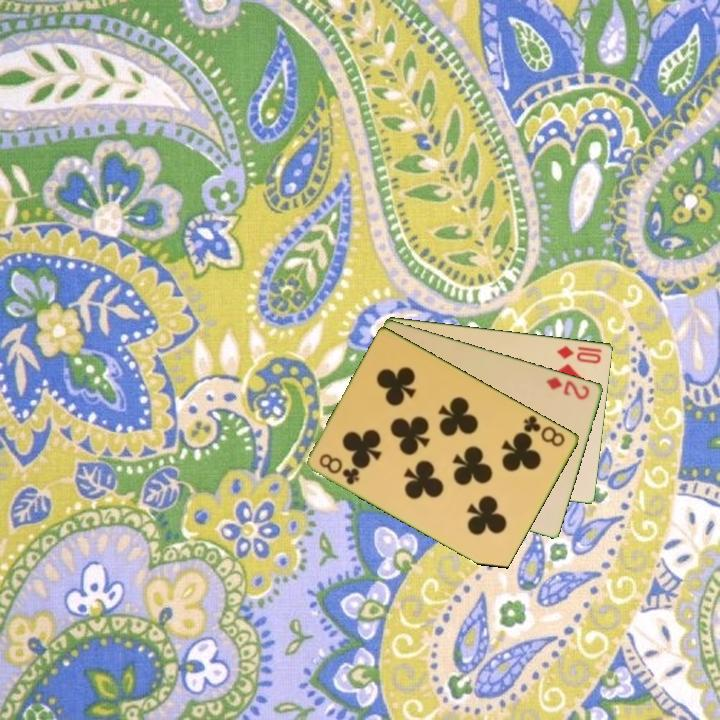10d: (554, 342, 604, 366)
2d: (543, 373, 593, 402)
8c: (520, 412, 568, 450), (316, 450, 363, 488)
